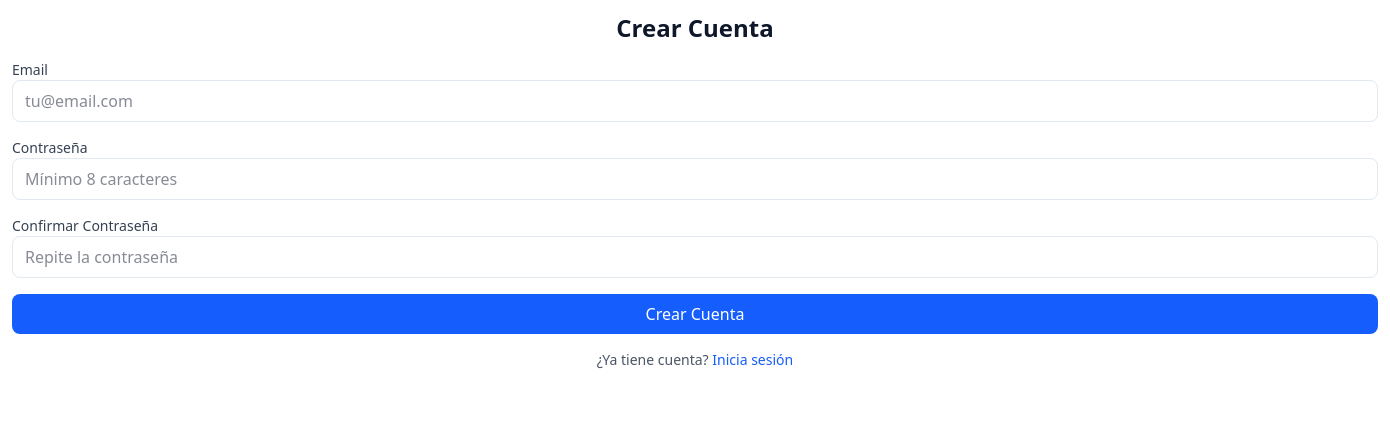
Test case: RegisterForm › shows error on password mismatch
Type "test@test.com" into the field labelled "Email" at (695,101), box [12,80,1378,122]
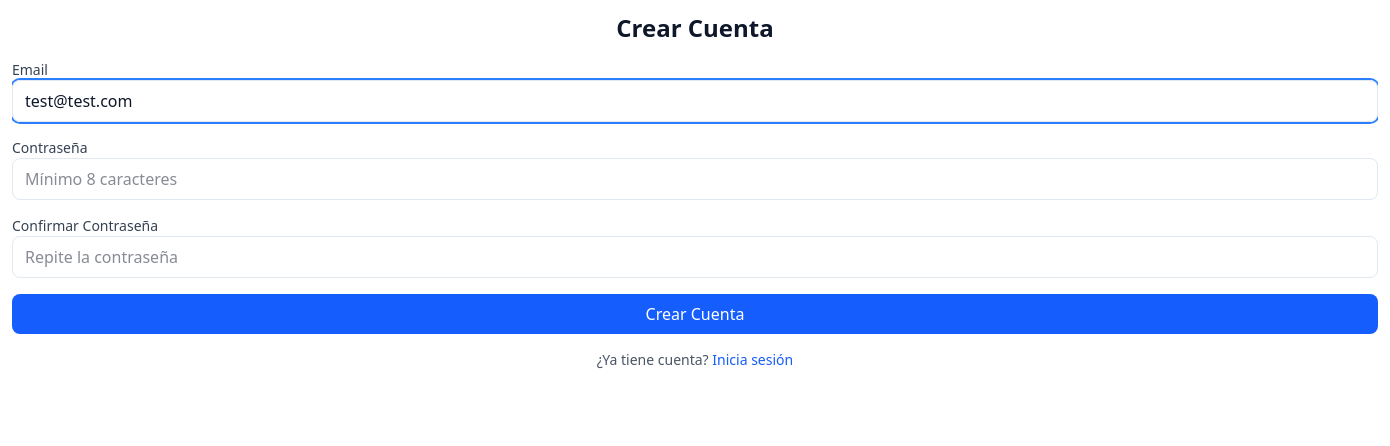
Type "password123" into the password field labelled "Contraseña" at (695,179), box [12,158,1378,200]
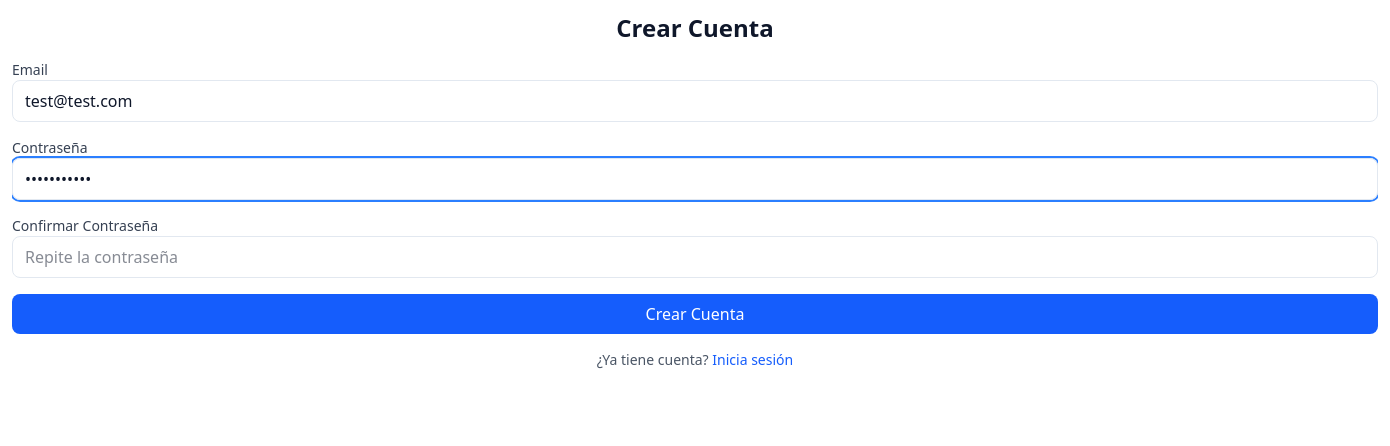
Type "different456" into the password field labelled "Confirmar Contraseña" at (695,257), box [12,236,1378,278]
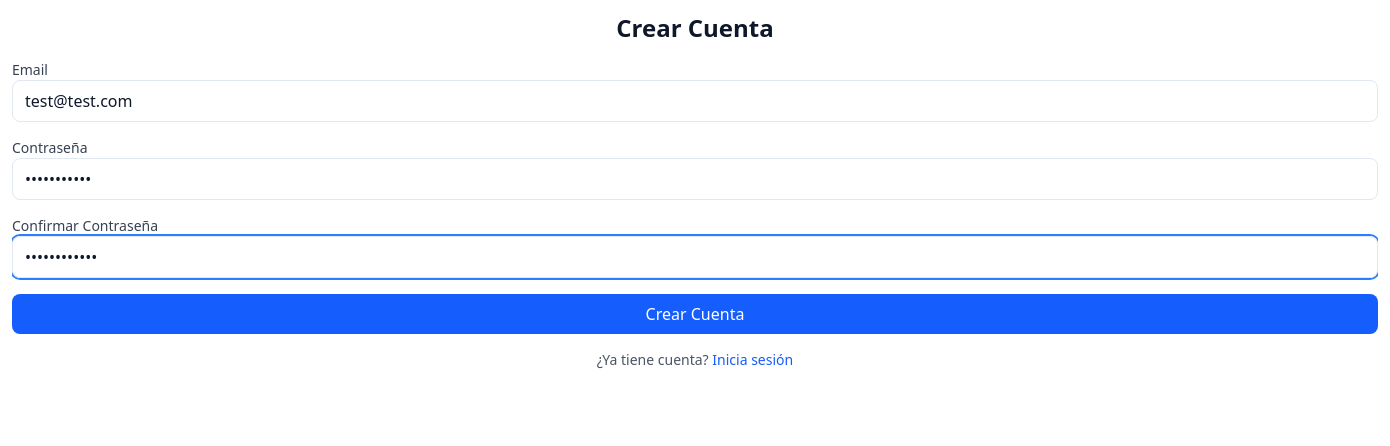
Click the button "Crear Cuenta" at (695,314), box [12,294,1378,334]
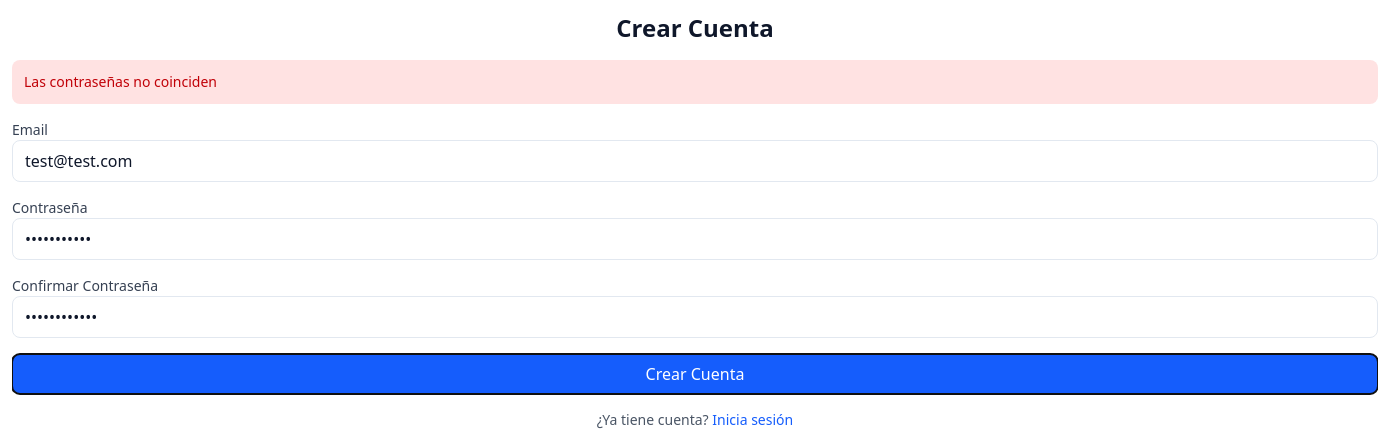
Expected: the text "Las contraseñas no coinciden" is shown, [12,60,1378,104]
